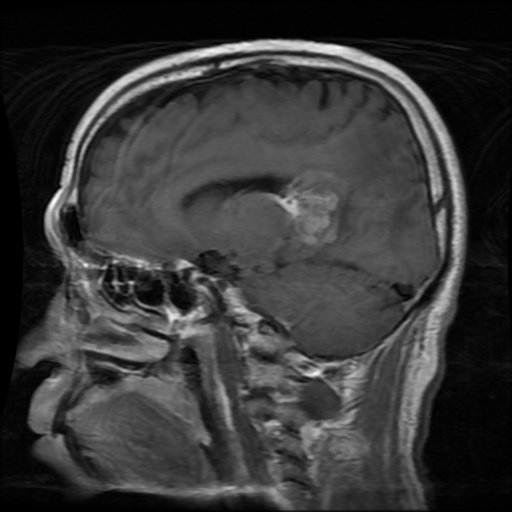glioma: (279, 169, 345, 244)
